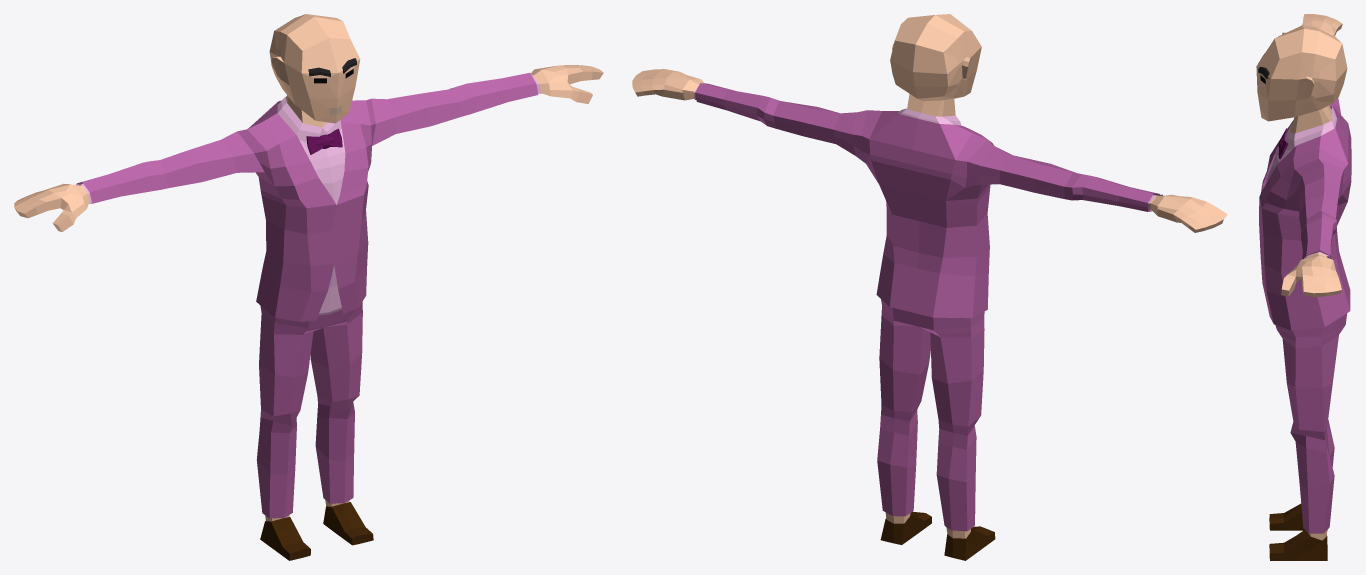
The model's file is NPC_MoradeteClaro_Escenario2_Pajarita.fbx.
3 renders of one model, left to right at view 1: azimuth 30°, elevation 25°; view 2: azimuth 150°, elevation 25°; view 3: azimuth 270°, elevation 25°, orthographic. The views are drawn at different scales.
Parts seen in each view (by area): view 1: Personaje; view 2: Personaje; view 3: Personaje.
Boxes of the visible parts, bbox=[...] form: Personaje: bbox=[14, 14, 603, 560]; Personaje: bbox=[632, 14, 1227, 560]; Personaje: bbox=[1256, 14, 1351, 560].
Size of the model in its own units: 215 by 184 by 30.94.
